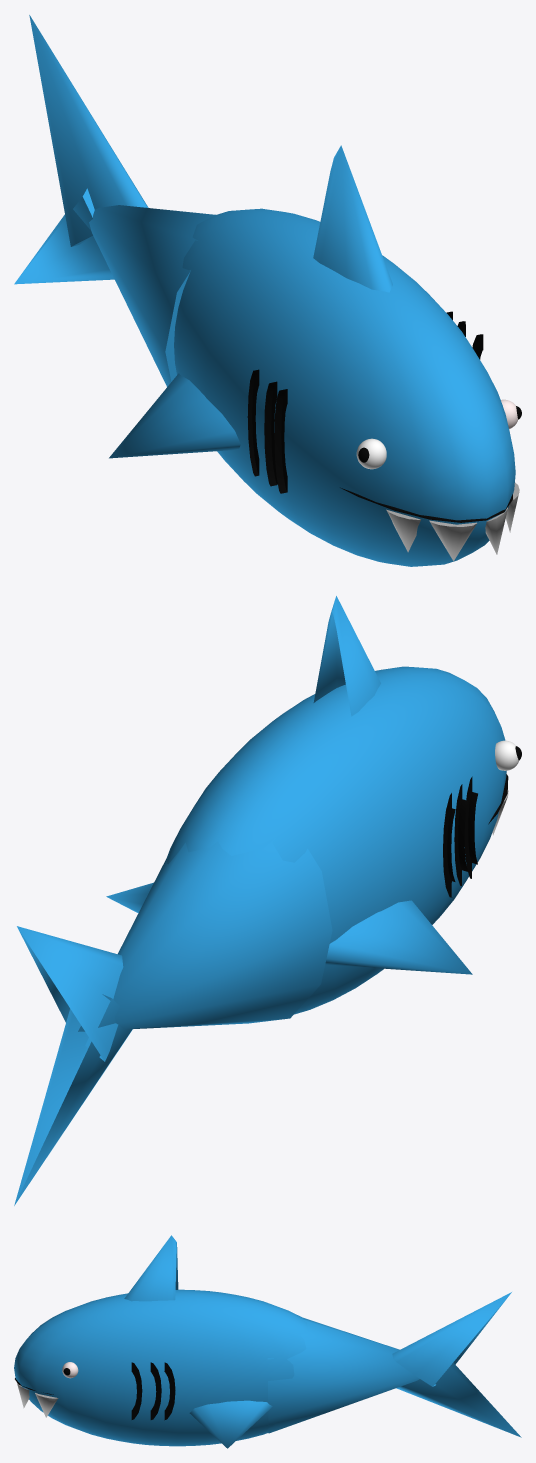
File: shark-man.obj
3 renders of one model, top to bottom at view 1: azimuth 30°, elevation 25°; view 2: azimuth 150°, elevation 25°; view 3: azimuth 270°, elevation 25°, orthographic. The views are drawn at different scales.
Parts seen in each view (by area): view 1: Sphere, Cone, Cone6, Cone2, Cone1, Cone4, Text2, Text6, Cone8, Text1, Cone9, Sphere2; view 2: Sphere, Cone, Cone6, Cone2, Cone4, Cone1, Text6, Text2, Text1; view 3: Sphere, Cone, Cone6, Cone4, Cone3, Cone1, Text4, Text5, Text3, Cone5.
Boxes of the visible parts, x1=… form: Sphere: x1=174, y1=208, x2=515, y2=566; Cone: x1=89, y1=205, x2=216, y2=386; Cone6: x1=29, y1=15, x2=148, y2=246; Cone2: x1=109, y1=373, x2=240, y2=458; Cone1: x1=313, y1=145, x2=392, y2=292; Cone4: x1=14, y1=188, x2=114, y2=284; Text2: x1=274, y1=389, x2=287, y2=493; Text6: x1=264, y1=381, x2=277, y2=486; Cone8: x1=429, y1=520, x2=476, y2=561; Text1: x1=247, y1=369, x2=259, y2=476; Cone9: x1=386, y1=509, x2=421, y2=552; Sphere2: x1=356, y1=438, x2=386, y2=469; Sphere: x1=167, y1=666, x2=506, y2=1014; Cone: x1=78, y1=838, x2=332, y2=1031; Cone6: x1=17, y1=926, x2=123, y2=1061; Cone2: x1=325, y1=900, x2=472, y2=974; Cone4: x1=14, y1=994, x2=132, y2=1205; Cone1: x1=313, y1=596, x2=380, y2=716; Text6: x1=454, y1=784, x2=468, y2=885; Text2: x1=464, y1=776, x2=477, y2=878; Text1: x1=443, y1=793, x2=455, y2=897; Sphere: x1=14, y1=1289, x2=308, y2=1446; Cone: x1=267, y1=1317, x2=419, y2=1433; Cone6: x1=392, y1=1292, x2=511, y2=1386; Cone4: x1=396, y1=1362, x2=521, y2=1437; Cone3: x1=189, y1=1400, x2=272, y2=1448; Cone1: x1=124, y1=1235, x2=178, y2=1301; Text4: x1=150, y1=1362, x2=161, y2=1419; Text5: x1=164, y1=1362, x2=175, y2=1420; Text3: x1=131, y1=1362, x2=142, y2=1419; Cone5: x1=35, y1=1393, x2=58, y2=1417.
Bounding box in the file's own units: 1.38 × 1.39 × 3.09.
